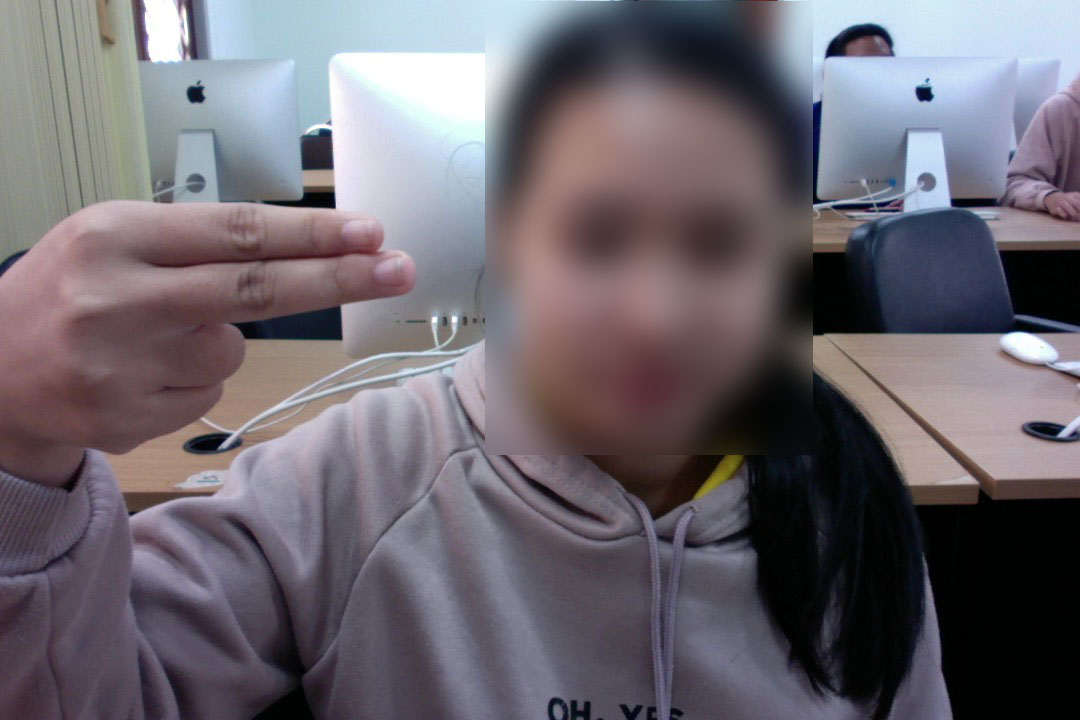hor: (3, 186, 444, 463)
